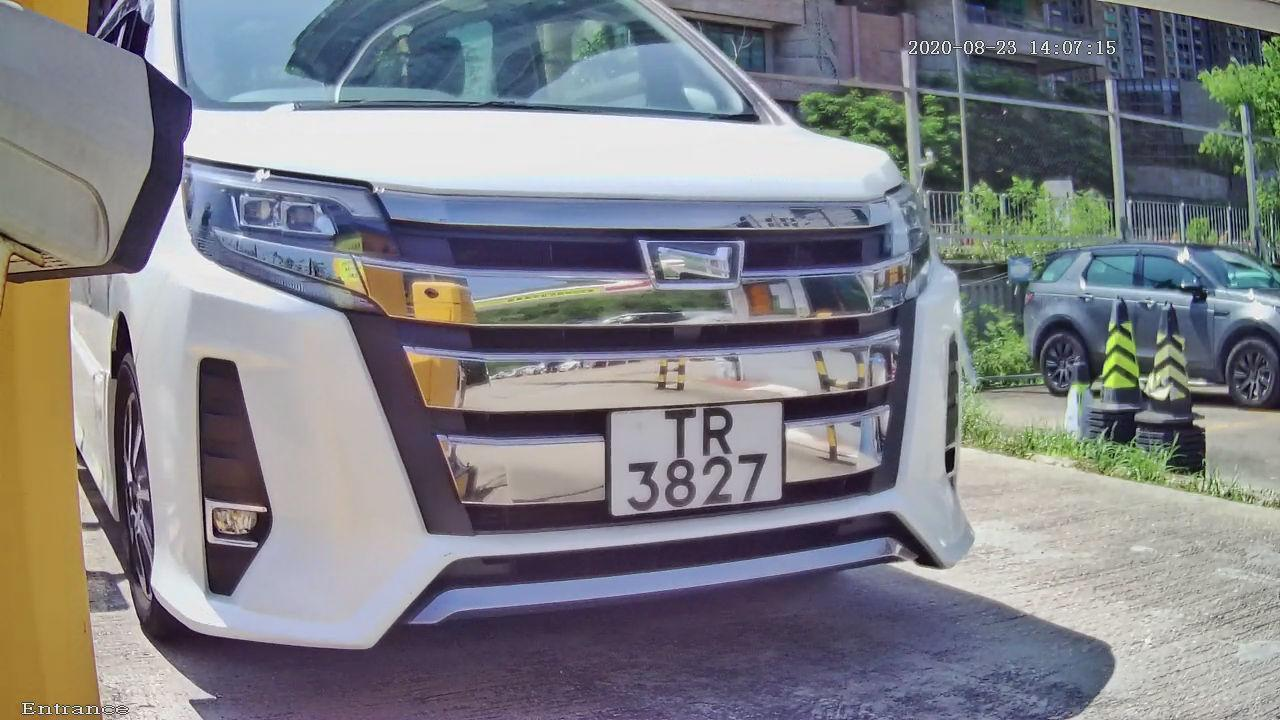License Plate: (572, 370, 812, 544)
